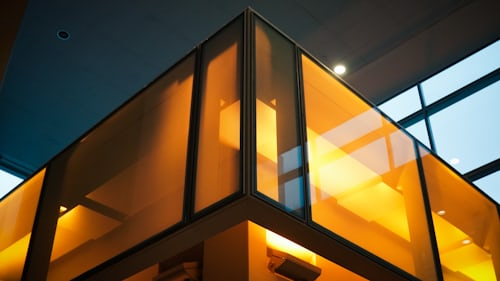glass panel: (47, 55, 194, 279), (302, 56, 436, 279), (421, 148, 499, 280), (255, 19, 303, 214), (194, 18, 242, 211), (0, 169, 44, 280)
